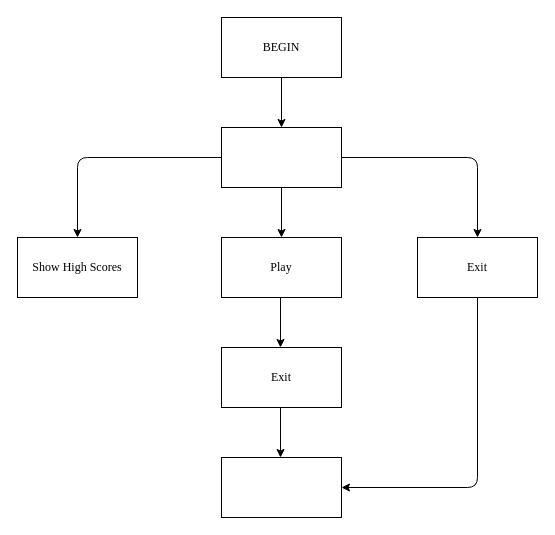
Image size: 555x535. Some labels were removed from this diagram. The shapes that lost their labels are listed below. From the top down, each one's box as (x1, y1, x2, y2) in pixels, then its label:
(220, 126, 342, 188): Menu
(220, 456, 342, 518): END
